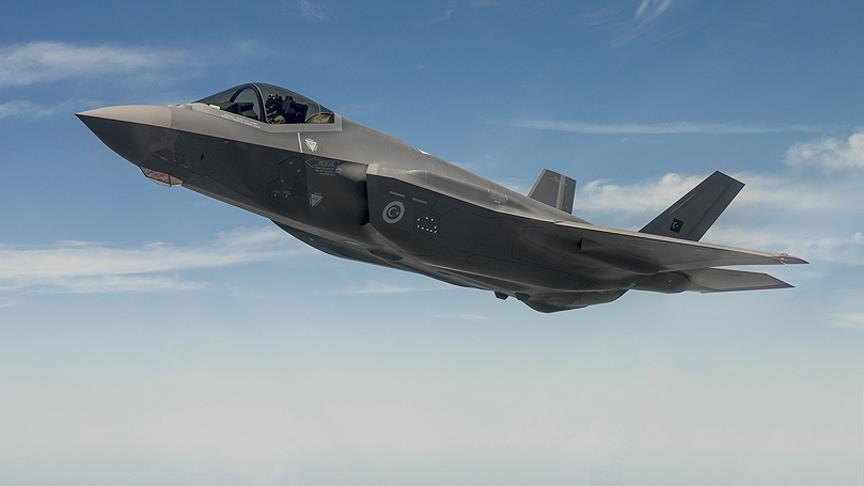F-35 Lightning: (70, 45, 813, 326)
